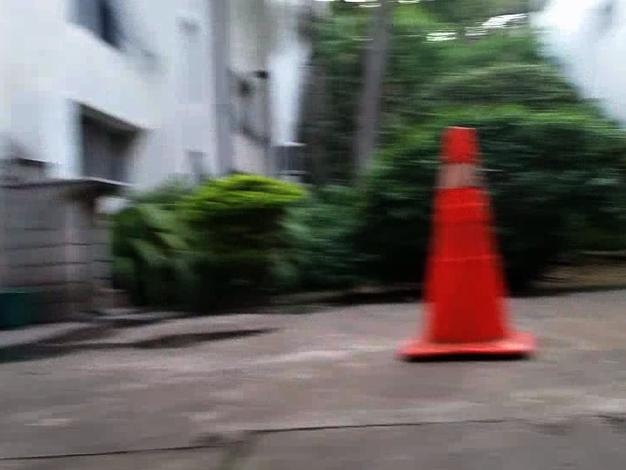0 cone: (401, 127, 537, 356)
